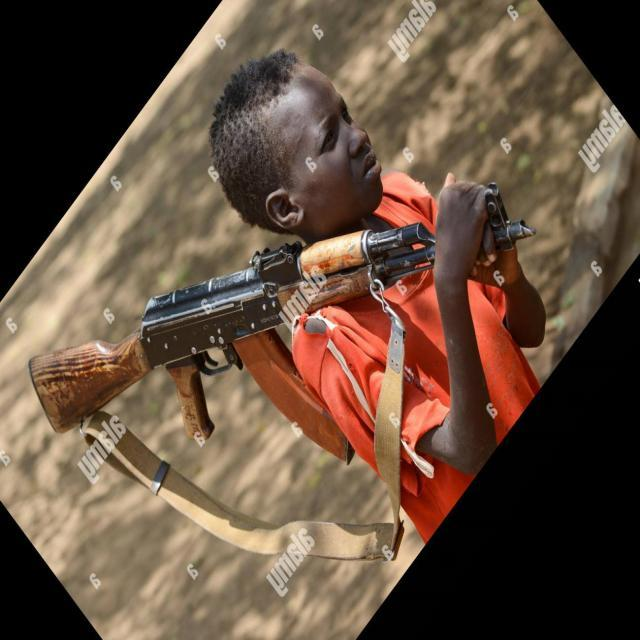weapon: (27, 184, 539, 466)
